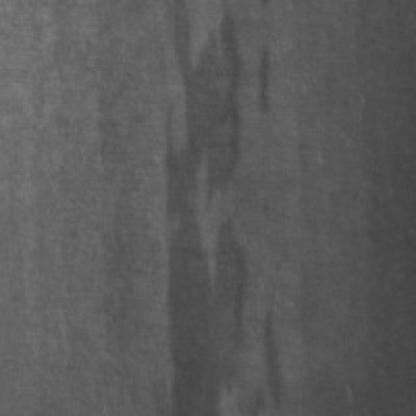inclusion: (156, 0, 258, 412), (245, 281, 296, 412), (248, 25, 291, 129)
